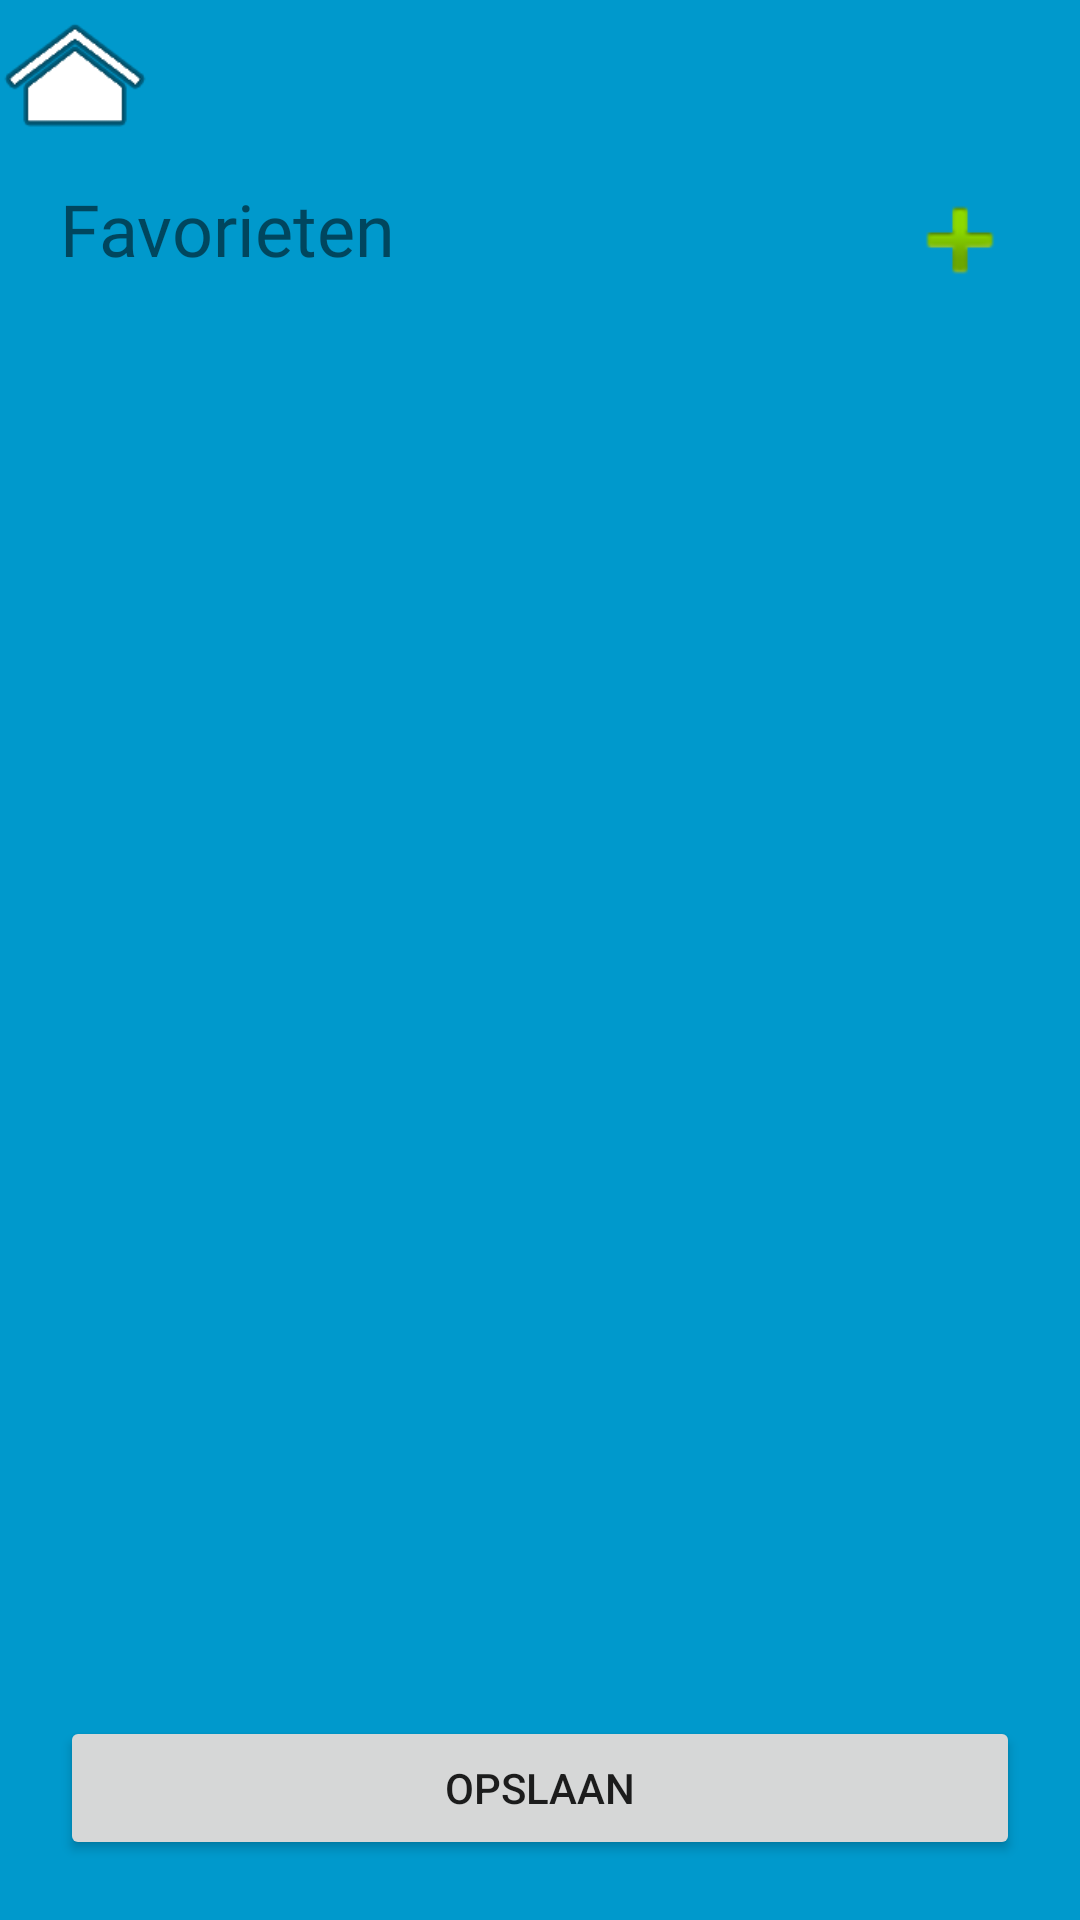

Locate icon controls on the screen. Image size 1080 x 1920, boxes as (x1, y1, x2, y2).
add: (926, 206, 994, 274)
home: (5, 25, 145, 126)
